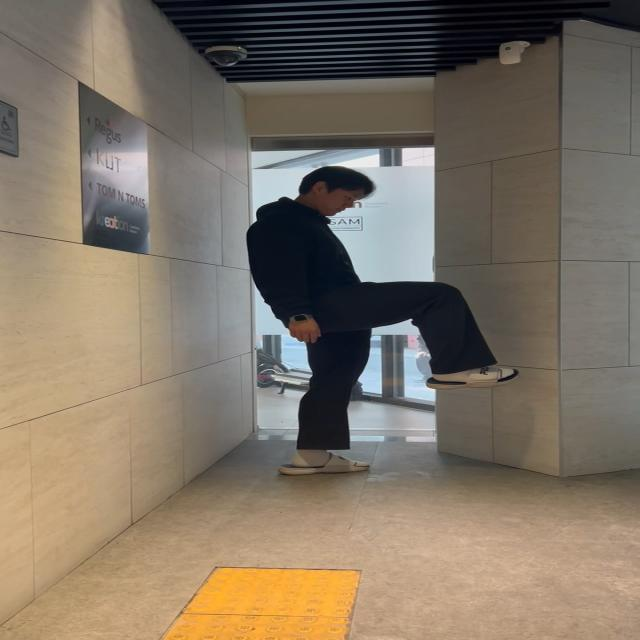knee: (363, 259, 534, 407)
